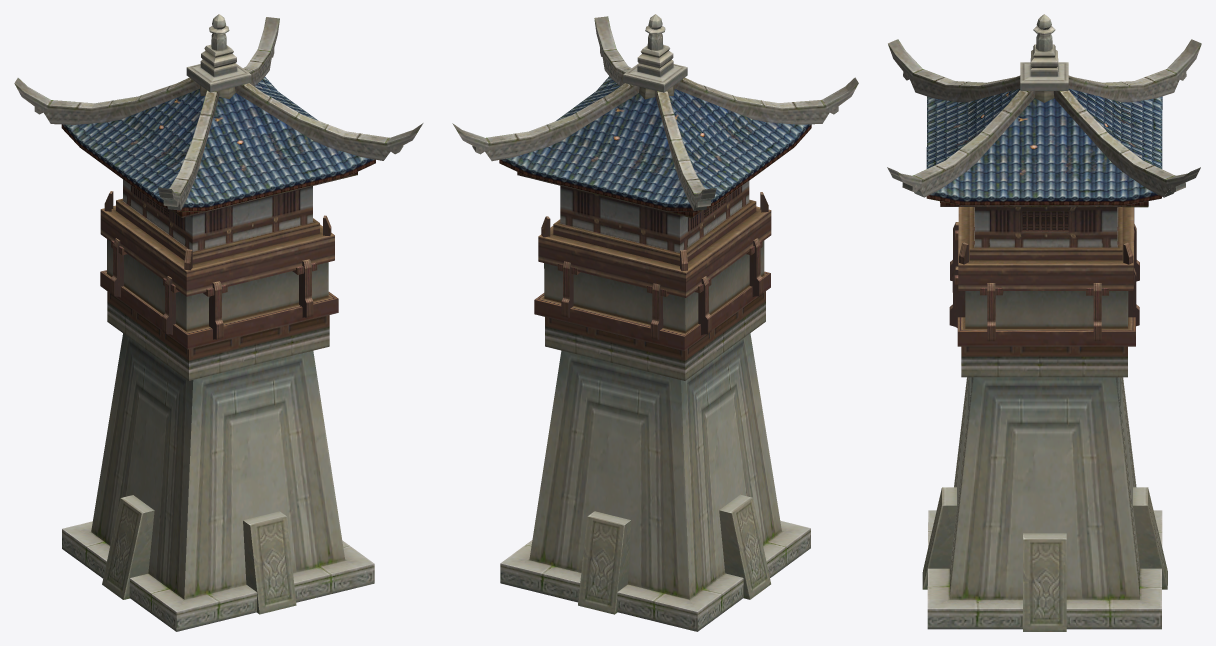
File: fangzi_7.FBX
The picture shows the model from 3 angles, left to right: view 1: azimuth 30°, elevation 25°; view 2: azimuth 150°, elevation 25°; view 3: azimuth 270°, elevation 25°; orthographic projection. The views are drawn at different scales.
Visible parts, largest first — view 1: DrawCall_626; view 2: DrawCall_626; view 3: DrawCall_626.
Boxes of the visible parts, bbox=[...] form: DrawCall_626: bbox=[14, 14, 423, 631]; DrawCall_626: bbox=[452, 14, 858, 631]; DrawCall_626: bbox=[887, 14, 1201, 631].
Bounding box in the file's own units: 145 × 288 × 145.
1 material, 1 textured.
